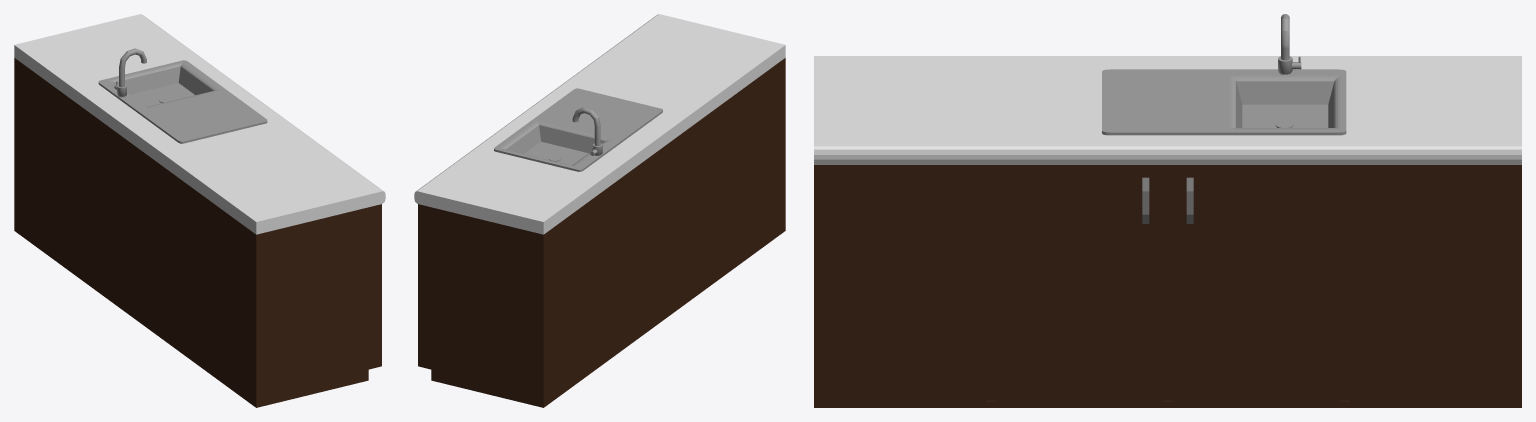
File: Kitchen counter.fbx
The picture shows the model from 3 angles, left to right: view 1: azimuth 30°, elevation 25°; view 2: azimuth 150°, elevation 25°; view 3: azimuth 270°, elevation 25°; orthographic projection. The views are drawn at different scales.
Visible parts, largest first — view 1: actual counter.002, Cube.003; view 2: actual counter.002, Cube.003; view 3: actual counter.002, Cube.003.
Boxes of the visible parts, left/top/right/bottom form: actual counter.002: left=14, top=14, right=385, bottom=407; Cube.003: left=98, top=48, right=267, bottom=143; actual counter.002: left=414, top=14, right=785, bottom=407; Cube.003: left=494, top=88, right=662, bottom=171; actual counter.002: left=814, top=56, right=1521, bottom=407; Cube.003: left=1102, top=14, right=1346, bottom=135.
Bounding box in the file's own units: 61.77 × 105 × 200.
